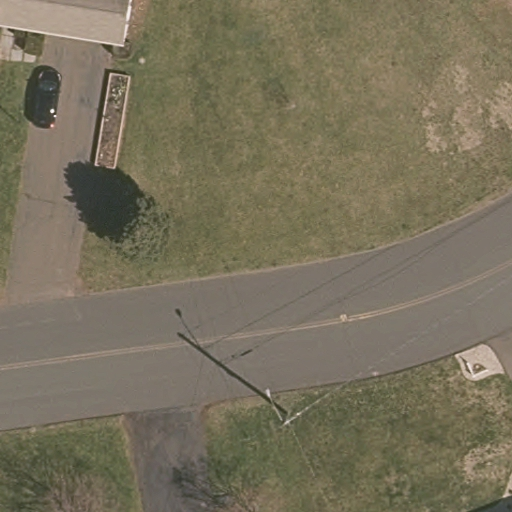DT: (263, 386, 296, 428)
